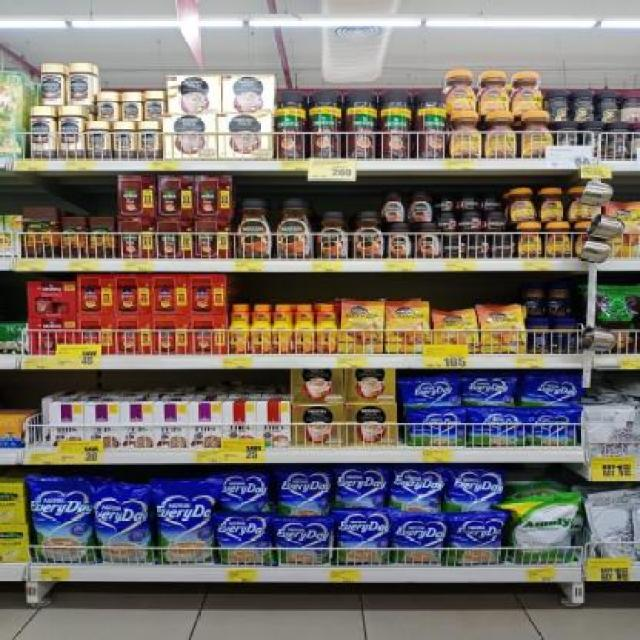Coffee: (234, 198, 271, 258), (276, 198, 312, 259), (387, 301, 428, 353), (342, 302, 383, 352), (480, 308, 523, 354), (604, 203, 638, 257), (434, 312, 475, 353), (352, 210, 385, 259), (449, 111, 483, 158), (485, 110, 518, 158), (316, 211, 347, 260), (520, 111, 552, 158), (56, 106, 84, 159), (29, 107, 53, 158), (478, 71, 510, 109), (444, 70, 474, 110), (512, 72, 542, 110), (228, 304, 250, 354), (316, 304, 338, 354), (250, 304, 272, 354), (67, 63, 91, 105), (40, 63, 64, 105), (274, 304, 294, 354), (296, 304, 315, 354), (386, 222, 412, 258), (415, 224, 442, 258), (86, 121, 110, 159), (546, 221, 571, 257), (567, 186, 593, 220), (538, 188, 564, 222), (510, 188, 535, 222), (138, 121, 160, 159), (518, 223, 542, 257), (113, 122, 135, 158), (408, 188, 432, 221), (383, 189, 406, 222), (96, 91, 118, 120), (121, 91, 142, 120), (144, 90, 164, 119), (467, 234, 490, 258), (444, 236, 467, 258), (493, 235, 515, 257), (458, 212, 482, 232), (485, 212, 506, 233), (434, 195, 454, 212), (482, 194, 502, 210), (457, 195, 478, 210), (438, 212, 454, 230)
